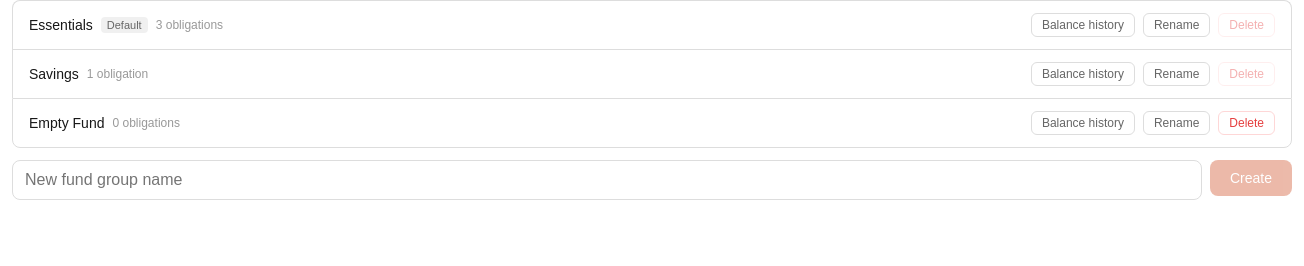
FundsSection › creates a new fund group
Check: the text "Essentials" is shown, box [29, 17, 93, 33]
Type "Travel" into the field labelled "New fund group name". click: point(607, 180)
box: [12, 160, 1202, 200]
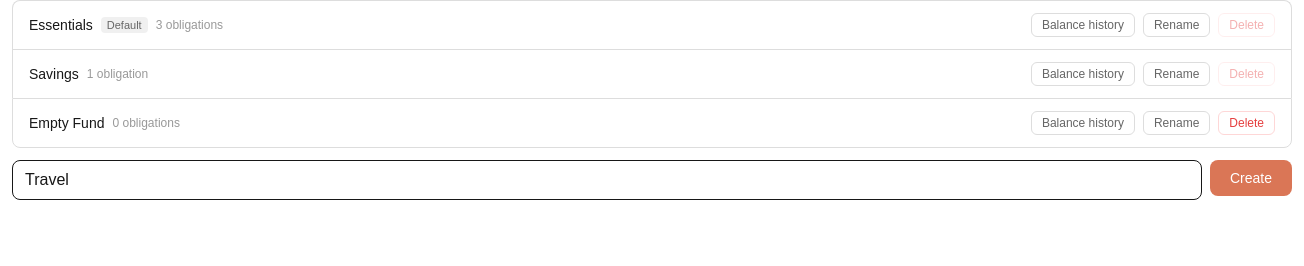
Click the button "Create". click: point(1251, 178)
box: [1210, 160, 1292, 196]
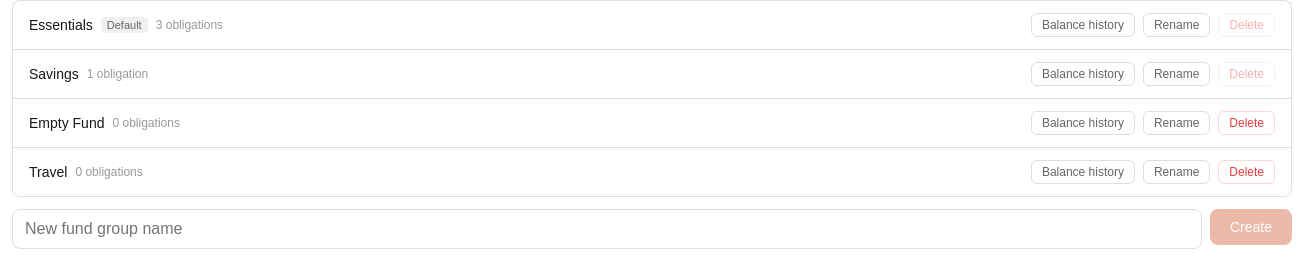
Check: the text "Travel" is shown, box [29, 164, 67, 180]
